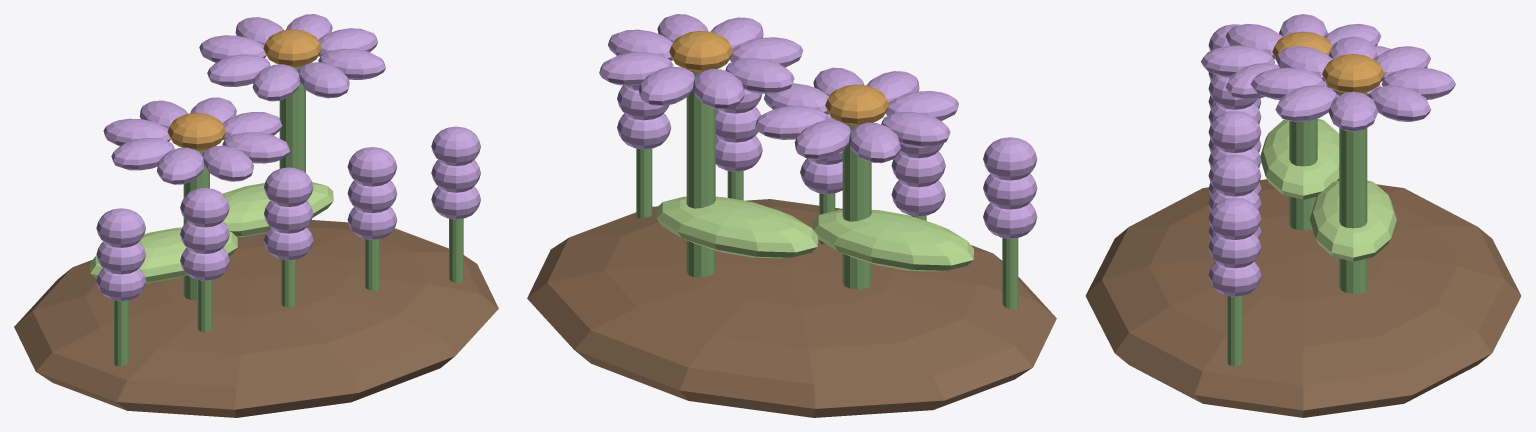
File: Lavender.fbx
3 renders of one model, left to right at view 1: azimuth 30°, elevation 25°; view 2: azimuth 150°, elevation 25°; view 3: azimuth 270°, elevation 25°, orthographic. The views are drawn at different scales.
Parts seen in each view (by area): view 1: Worksite soil bed.010, Wide leaf.008, Wide leaf.007, Flower stalk.008, Pollen disk.008, Pollen disk.007, Tiny violet bloom.011, Tiny violet bloom.002, Tiny violet bloom.008, Tiny violet bloom.014, Tiny violet bloom.005, Colored petal.068 (+31 smaller); view 2: Worksite soil bed.010, Wide leaf.008, Wide leaf.007, Flower stalk.008, Flower stalk.007, Pollen disk.007, Pollen disk.008, Tiny violet bloom.002, Colored petal.068, Colored petal.060, Colored petal.058, Colored petal.057 (+24 smaller); view 3: Worksite soil bed.010, Wide leaf.008, Wide leaf.007, Flower stalk.008, Flower stalk.007, Pollen disk.008, Tiny violet bloom.011, Tiny violet bloom.014, Tiny violet bloom.008, Colored petal.065, Colored petal.071, Colored petal.064 (+18 smaller).
Part boxes in pixels (x1=…): Worksite soil bed.010: x1=14, y1=220, x2=498, y2=417; Wide leaf.008: x1=222, y1=182, x2=333, y2=237; Wide leaf.007: x1=90, y1=227, x2=237, y2=283; Flower stalk.008: x1=279, y1=66, x2=305, y2=172; Pollen disk.008: x1=263, y1=29, x2=321, y2=67; Pollen disk.007: x1=167, y1=112, x2=225, y2=150; Tiny violet bloom.011: x1=347, y1=147, x2=397, y2=186; Tiny violet bloom.002: x1=96, y1=208, x2=145, y2=247; Tiny violet bloom.008: x1=264, y1=167, x2=313, y2=206; Tiny violet bloom.014: x1=431, y1=126, x2=480, y2=166; Tiny violet bloom.005: x1=180, y1=188, x2=229, y2=227; Colored petal.068: x1=207, y1=54, x2=270, y2=86; Worksite soil bed.010: x1=527, y1=199, x2=1056, y2=417; Wide leaf.008: x1=656, y1=196, x2=817, y2=258; Wide leaf.007: x1=812, y1=209, x2=973, y2=271; Flower stalk.008: x1=686, y1=71, x2=715, y2=277; Flower stalk.007: x1=842, y1=125, x2=871, y2=289; Pollen disk.007: x1=825, y1=84, x2=888, y2=125; Pollen disk.008: x1=669, y1=30, x2=732, y2=72; Tiny violet bloom.002: x1=983, y1=137, x2=1037, y2=180; Colored petal.068: x1=725, y1=58, x2=794, y2=93; Colored petal.060: x1=881, y1=111, x2=950, y2=147; Colored petal.058: x1=794, y1=120, x2=851, y2=159; Colored petal.057: x1=755, y1=105, x2=829, y2=139; Worksite soil bed.010: x1=1085, y1=179, x2=1521, y2=417; Wide leaf.008: x1=1309, y1=180, x2=1396, y2=261; Wide leaf.007: x1=1260, y1=118, x2=1339, y2=199; Flower stalk.008: x1=1339, y1=92, x2=1367, y2=294; Flower stalk.007: x1=1289, y1=118, x2=1317, y2=230; Pollen disk.008: x1=1322, y1=54, x2=1384, y2=93; Tiny violet bloom.011: x1=1208, y1=154, x2=1261, y2=196; Tiny violet bloom.014: x1=1208, y1=198, x2=1261, y2=239; Tiny violet bloom.008: x1=1208, y1=111, x2=1261, y2=153; Colored petal.065: x1=1368, y1=85, x2=1431, y2=121; Colored petal.071: x1=1275, y1=85, x2=1337, y2=121; Colored petal.064: x1=1328, y1=91, x2=1377, y2=131.
Bounding box in the file's own units: 174 × 110 × 140.
